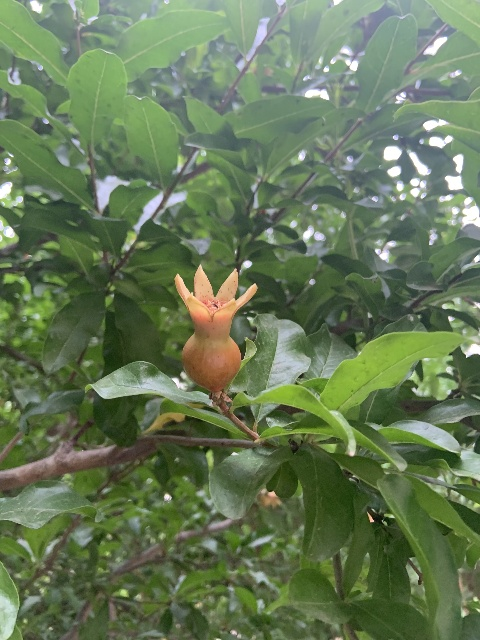early-fruit: (175, 264, 257, 392)
